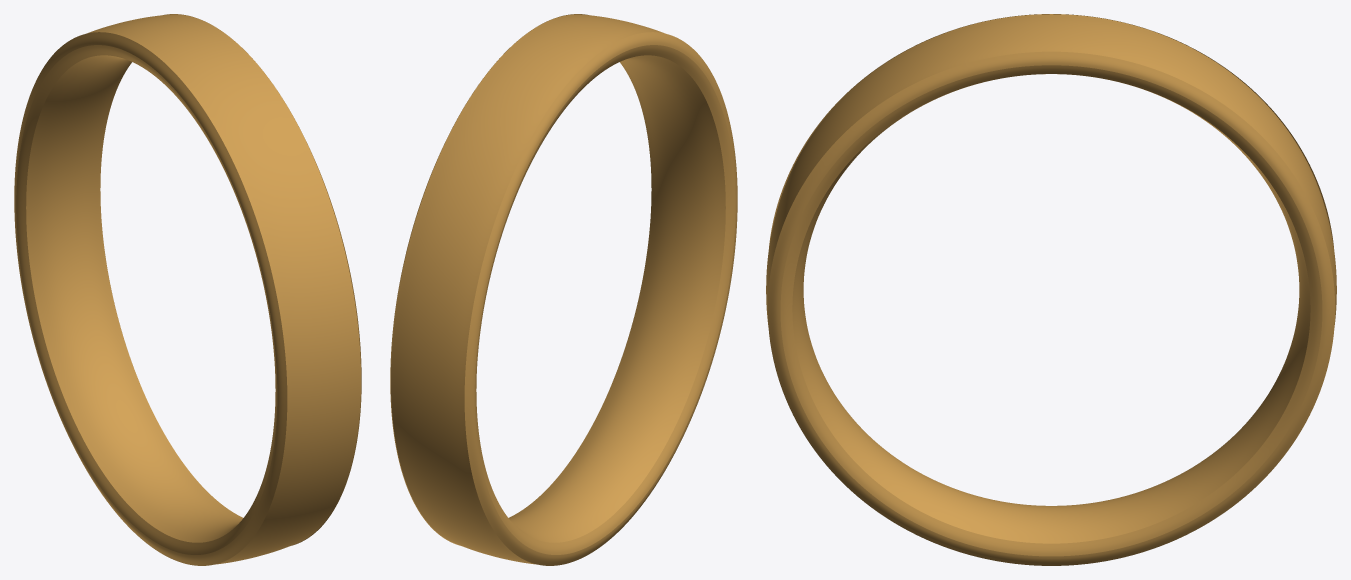
The picture shows the model from 3 angles, left to right: view 1: azimuth 30°, elevation 25°; view 2: azimuth 150°, elevation 25°; view 3: azimuth 270°, elevation 25°; orthographic projection. The views are drawn at different scales.
Visible parts, largest first — view 1: P1-Outer, P1-Inner, P1 Sides; view 2: P1-Outer, P1-Inner, P1 Sides; view 3: P1 Sides, P1-Inner, P1-Outer.
Boxes of the visible parts, left/top/right/bottom form: P1-Outer: left=87, top=14, right=360, bottom=564; P1-Inner: left=26, top=55, right=242, bottom=542; P1 Sides: left=14, top=14, right=361, bottom=565; P1-Outer: left=391, top=14, right=664, bottom=564; P1-Inner: left=509, top=55, right=725, bottom=542; P1 Sides: left=390, top=14, right=737, bottom=565; P1 Sides: left=767, top=14, right=1335, bottom=565; P1-Inner: left=792, top=74, right=1310, bottom=543; P1-Outer: left=766, top=14, right=1336, bottom=327.
Bounding box in the file's own units: 0.00399 × 0.0232 × 0.0231.
